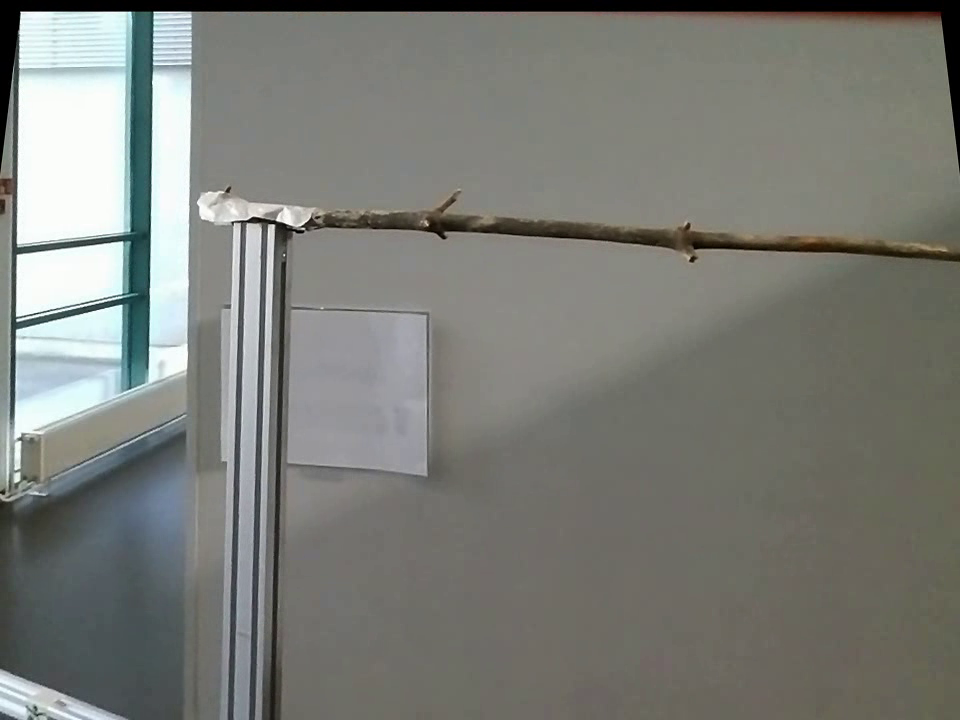aluminum_frame: (214, 227, 294, 717), (1, 658, 127, 717)
branch: (320, 177, 955, 275)
